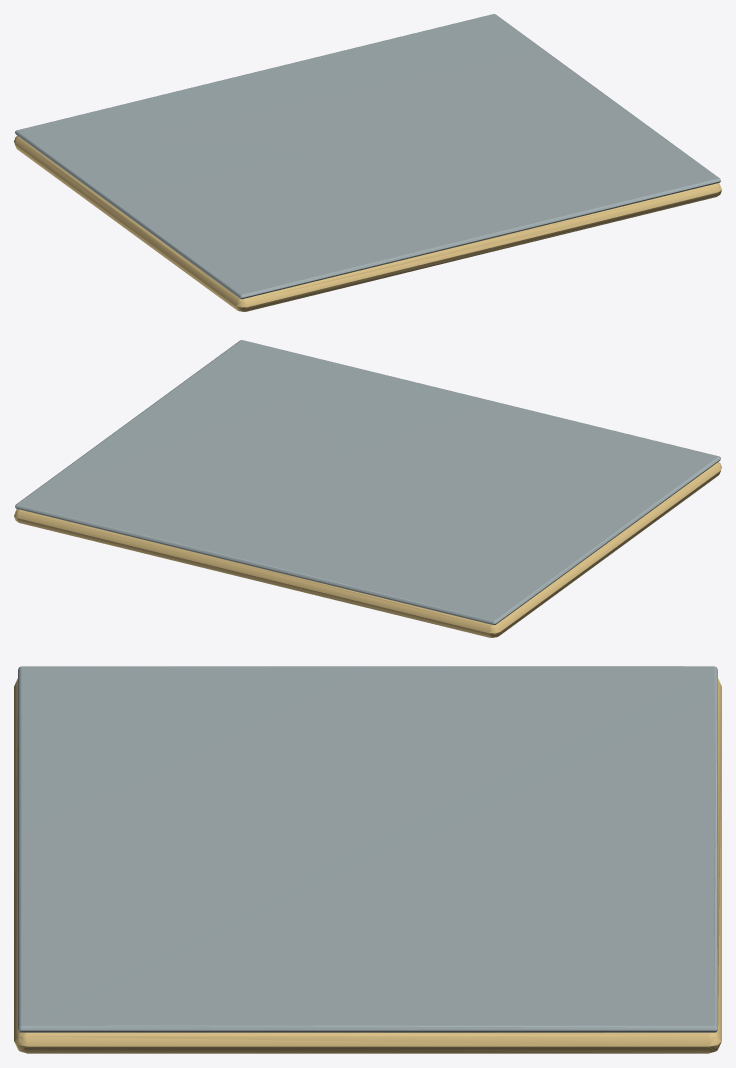
File: DW_Island_3.fbx
3 renders of one model, top to bottom at view 1: azimuth 30°, elevation 25°; view 2: azimuth 150°, elevation 25°; view 3: azimuth 270°, elevation 25°, orthographic. The views are drawn at different scales.
Visible parts, largest first — view 1: Island_3; view 2: Island_3; view 3: Island_3.
Boxes of the visible parts, x1,y1,x2,y2 form: Island_3: (14, 14, 721, 311); Island_3: (14, 340, 721, 637); Island_3: (14, 666, 721, 1053).
Bounding box in the file's own units: 22 × 0.84 × 18.
